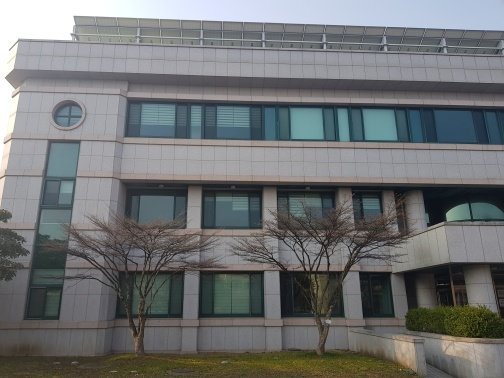Information Telecommunication Center: (8, 12, 499, 359), (17, 39, 499, 232)
